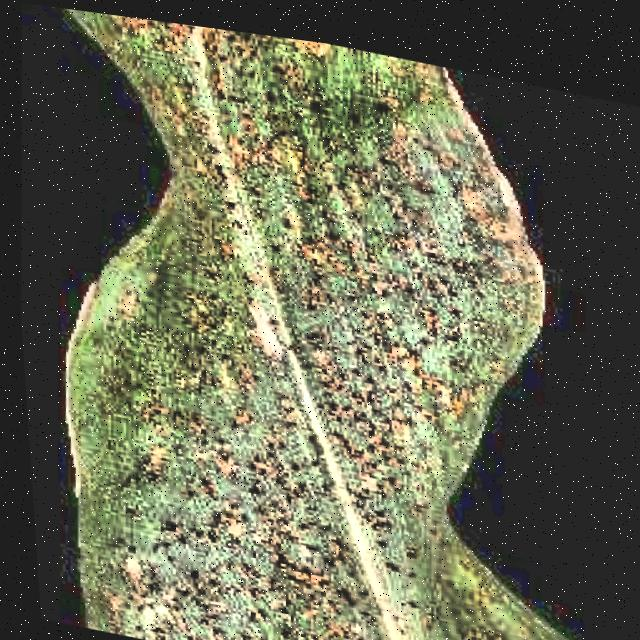common_rust: (36, 5, 586, 640)
